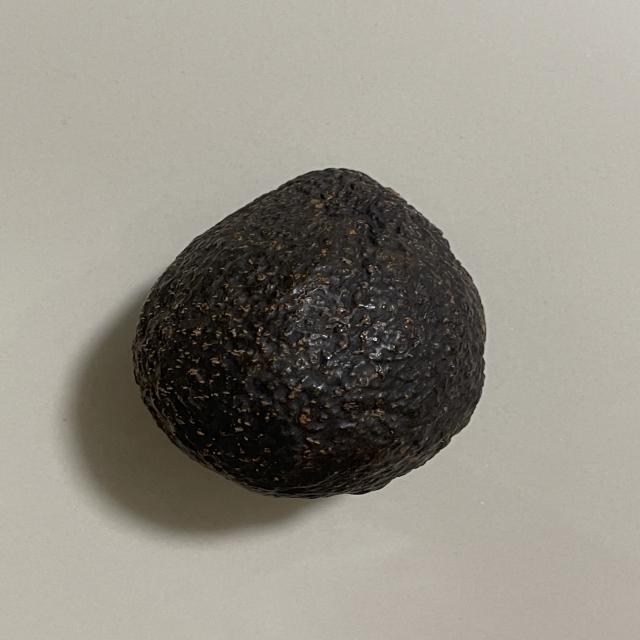Level3: (123, 157, 496, 508)
